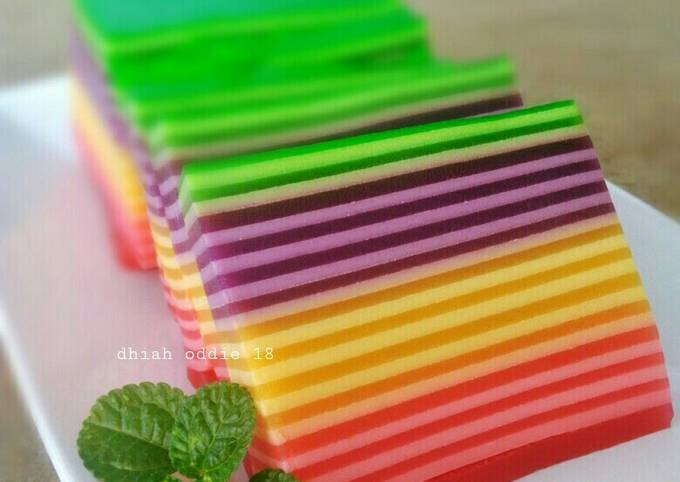kue_lapis_pelangi: (176, 99, 674, 482)
